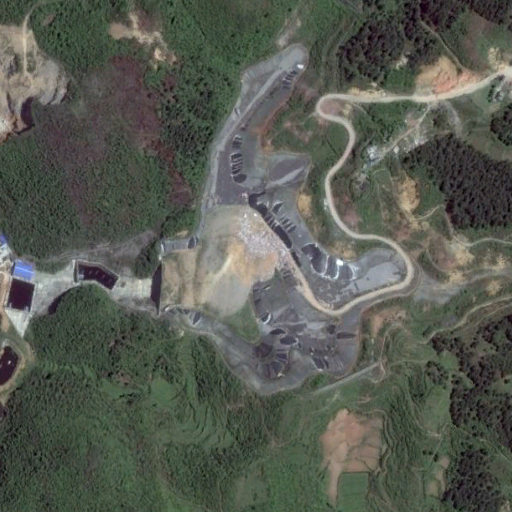lf: (159, 38, 406, 391)
